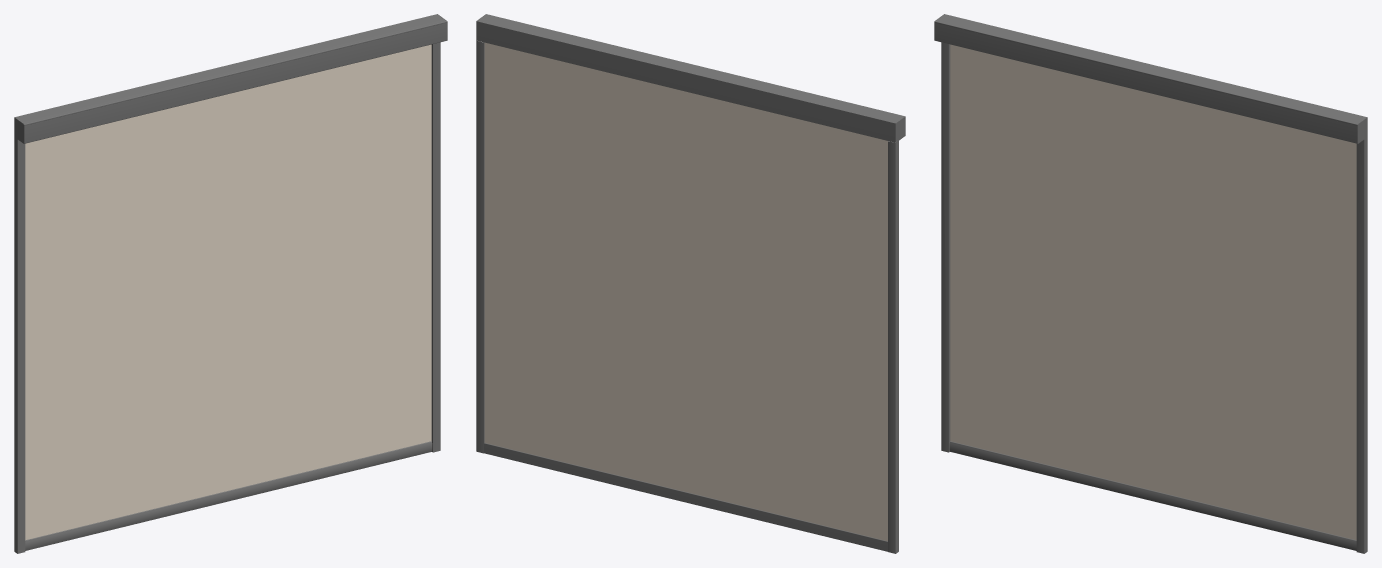
File: Zip 3.glb
The picture shows the model from 3 angles, left to right: view 1: azimuth 30°, elevation 25°; view 2: azimuth 150°, elevation 25°; view 3: azimuth 330°, elevation 25°; orthographic projection.
Visible parts, largest first — view 1: 3DGeom-1 (×14), 3DGeom-18, 3DGeom-17, 3DGeom-15; view 2: 3DGeom-1 (×14), 3DGeom-18, 3DGeom-17, 3DGeom-15; view 3: 3DGeom-1 (×14), 3DGeom-18, 3DGeom-17, 3DGeom-15.
Boxes of the visible parts, bbox=[...] form: 3DGeom-1 (×14): bbox=[25, 44, 431, 521]; 3DGeom-18: bbox=[14, 14, 447, 553]; 3DGeom-17: bbox=[25, 423, 431, 540]; 3DGeom-15: bbox=[25, 441, 432, 550]; 3DGeom-1 (×14): bbox=[484, 42, 887, 522]; 3DGeom-18: bbox=[476, 14, 905, 553]; 3DGeom-17: bbox=[484, 425, 887, 541]; 3DGeom-15: bbox=[484, 443, 887, 551]; 3DGeom-1 (×14): bbox=[950, 44, 1356, 521]; 3DGeom-18: bbox=[934, 14, 1367, 553]; 3DGeom-17: bbox=[950, 423, 1356, 540]; 3DGeom-15: bbox=[949, 441, 1356, 550].
Bounding box in the file's own units: 2.71 × 2.65 × 0.1113.
